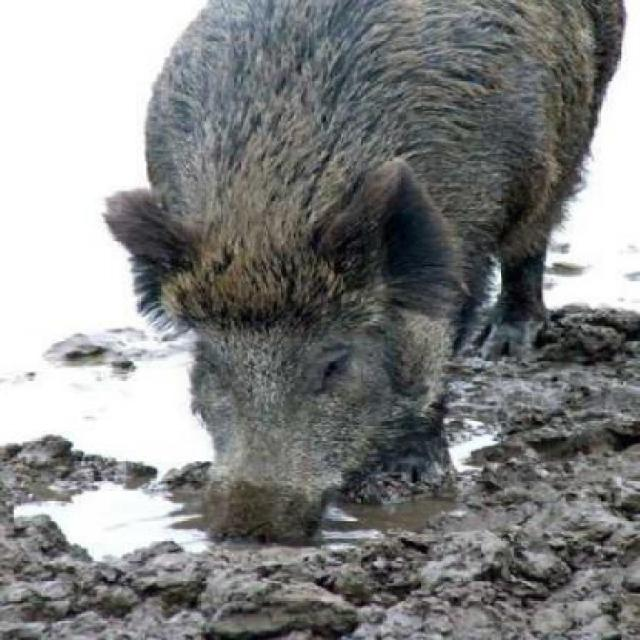pig: (72, 0, 639, 552)
